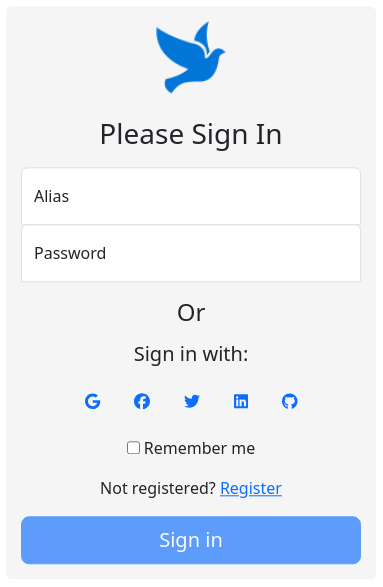
Scenario: Login Component › disables sign in button when alias or password is cleared
In the field labelled "Alias": (191, 196) x1=21 y1=167 x2=361 y2=225, type "TEXT HERE"
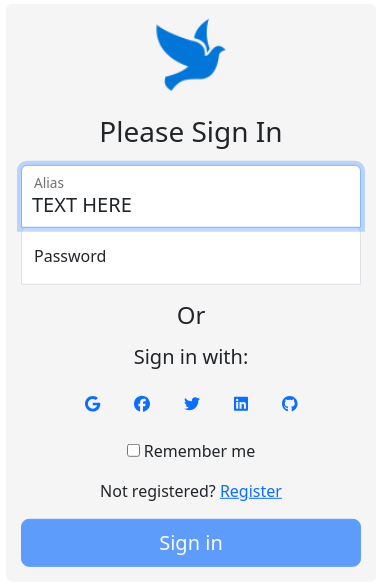
In the password field labelled "Password": (191, 255) x1=21 y1=226 x2=361 y2=284, type "text there"
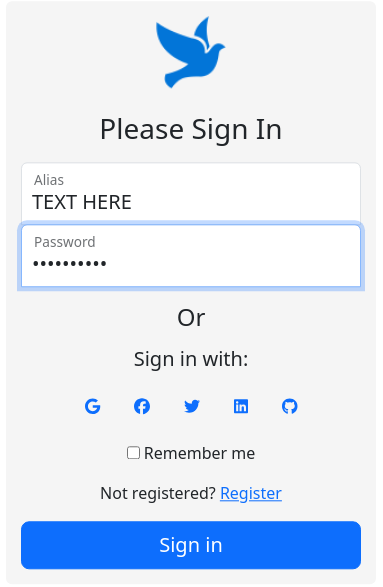
Expected: the button "Sign in" is enabled, x1=21 y1=522 x2=361 y2=570
Clear the field labelled "Alias": (191, 193) x1=21 y1=162 x2=361 y2=225
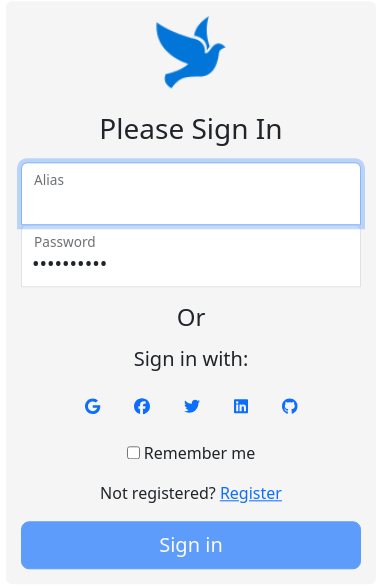
Expected: the button "Sign in" is disabled, x1=21 y1=522 x2=361 y2=570
In the field labelled "Alias": (191, 193) x1=21 y1=162 x2=361 y2=225, type "TEXT HERE"
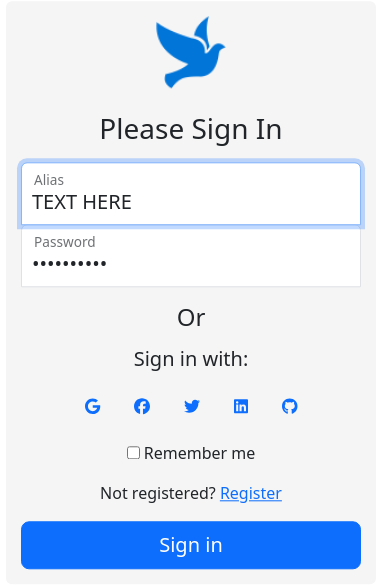
In the password field labelled "Password": (191, 255) x1=21 y1=224 x2=361 y2=287, type "text there"
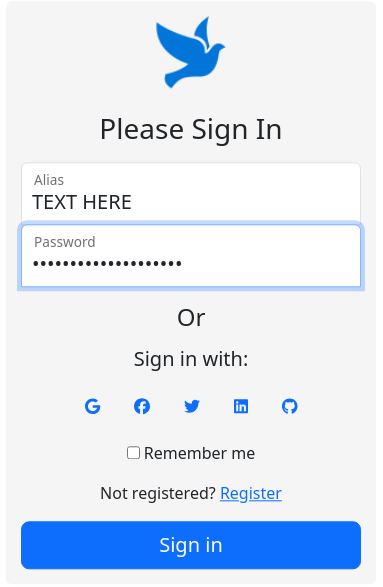
Expected: the button "Sign in" is enabled, x1=21 y1=522 x2=361 y2=570
Clear the password field labelled "Password": (191, 255) x1=21 y1=224 x2=361 y2=287
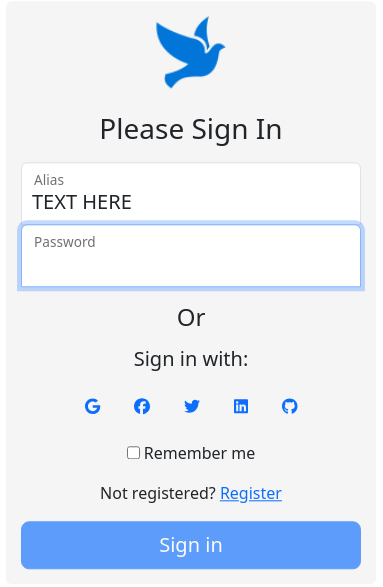
Expected: the button "Sign in" is disabled, x1=21 y1=522 x2=361 y2=570
